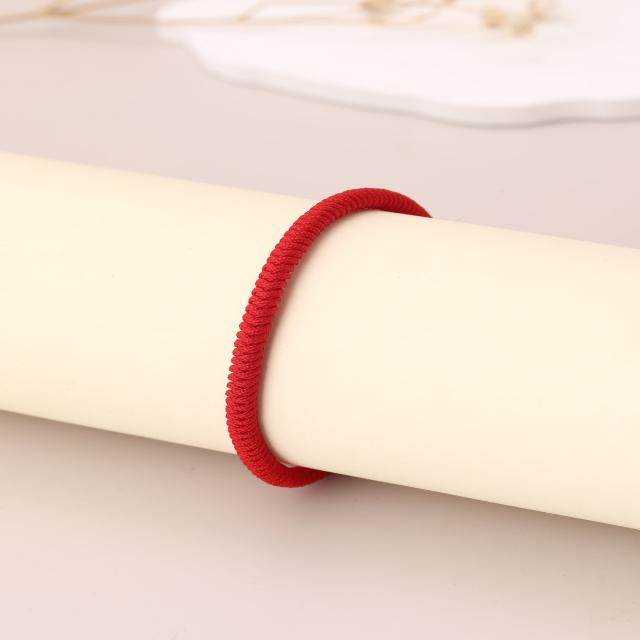bracelet: (155, 145, 494, 579)
